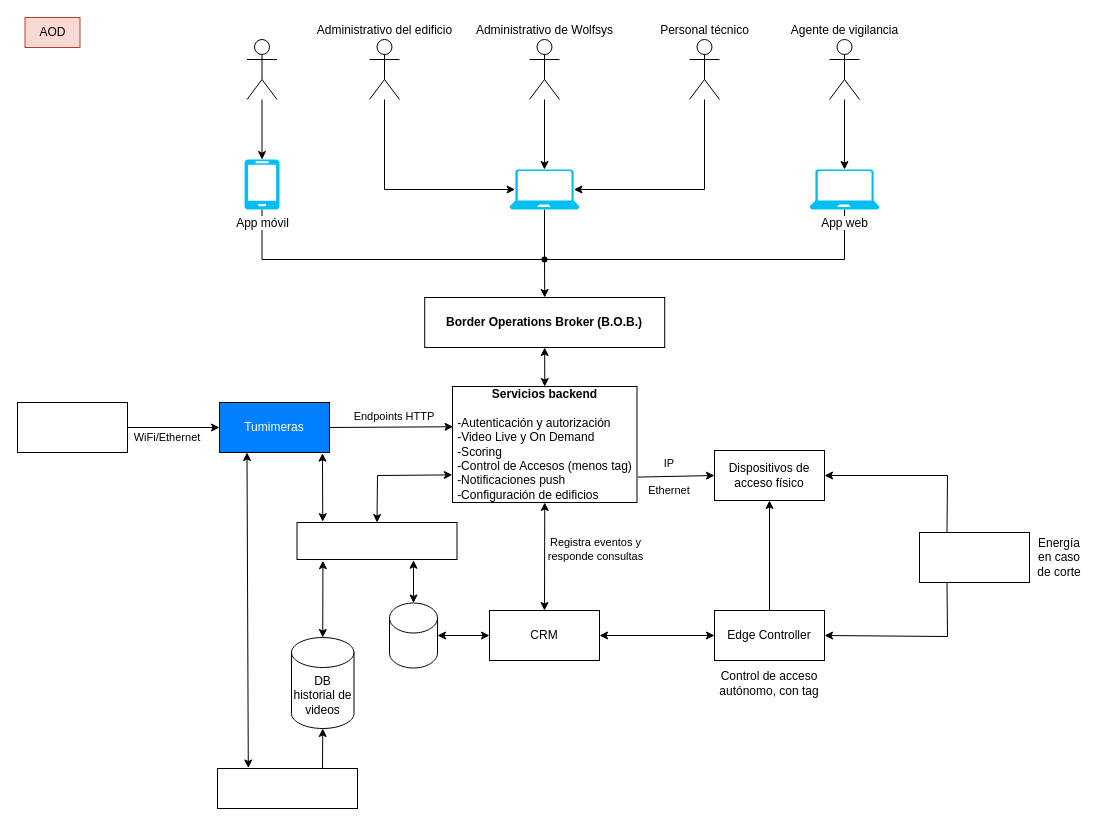
This 1107x826 diagram has some shape labels left out. The box of each missing label's shape, as (x1, y1, x2, y2) in pixels:
Consulta de videos: (296, 522, 457, 560)
Cámaras: (16, 402, 128, 452)
DB: (388, 602, 438, 668)
Interfaz administrativa: (509, 169, 579, 209)
La Heladera: (216, 768, 358, 808)
UPS: (918, 532, 1030, 582)
Usuario: (246, 38, 277, 100)
